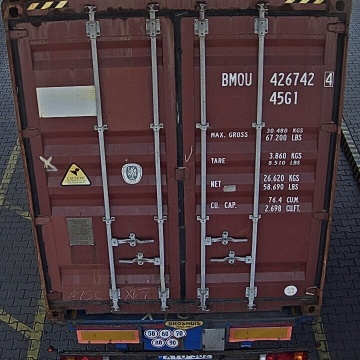serial_id: (222, 71, 333, 85)
